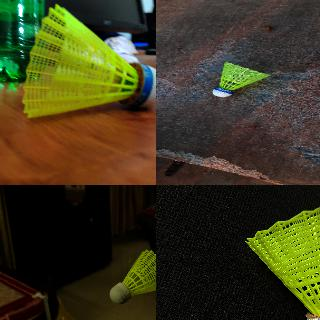shuttlecock: (22, 3, 155, 118), (244, 195, 319, 319), (109, 249, 155, 304), (212, 61, 270, 97)
